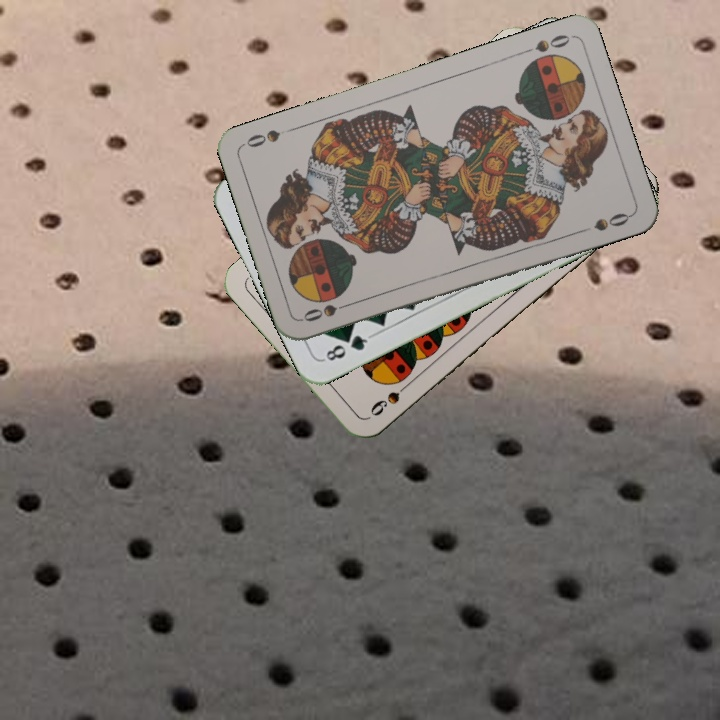G8: (319, 330, 374, 364)
S9: (366, 376, 415, 419)
SO: (299, 297, 356, 325), (516, 30, 573, 57)
